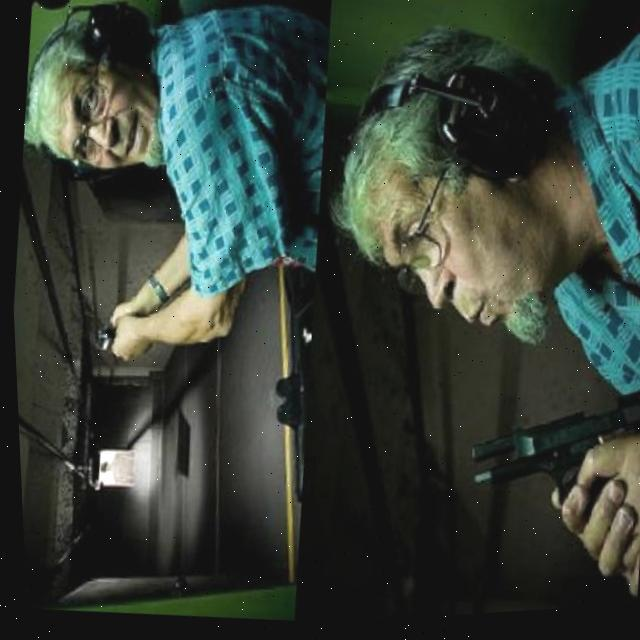gun: (453, 371, 640, 533), (90, 314, 113, 356)
